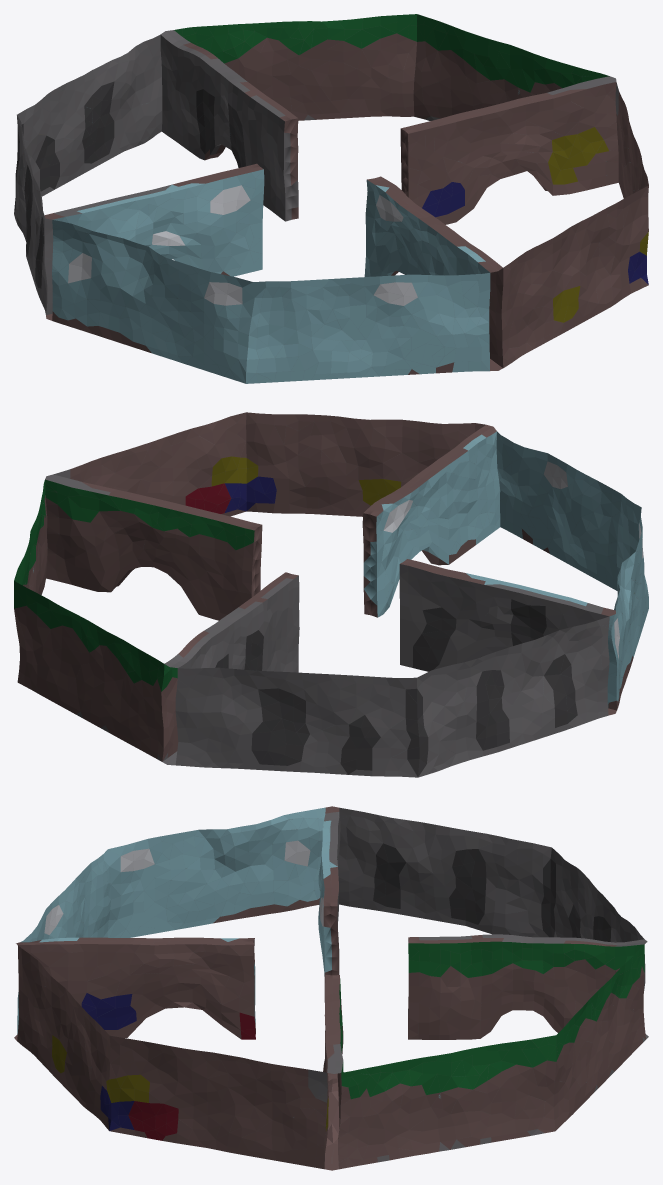
File: wals5.fbx
3 views of the same model, one above another, from view 1: azimuth 30°, elevation 25°; view 2: azimuth 150°, elevation 25°; view 3: azimuth 270°, elevation 25° (orthographic). The views are drawn at different scales.
Visible parts, largest first — view 1: Circle.001; view 2: Circle.001; view 3: Circle.001.
Boxes of the visible parts, x1,y1,x2,y2 form: Circle.001: (14, 14, 648, 383); Circle.001: (14, 412, 648, 777); Circle.001: (14, 806, 648, 1170).
Size of the model in its own units: 1734 by 299 by 1736.
